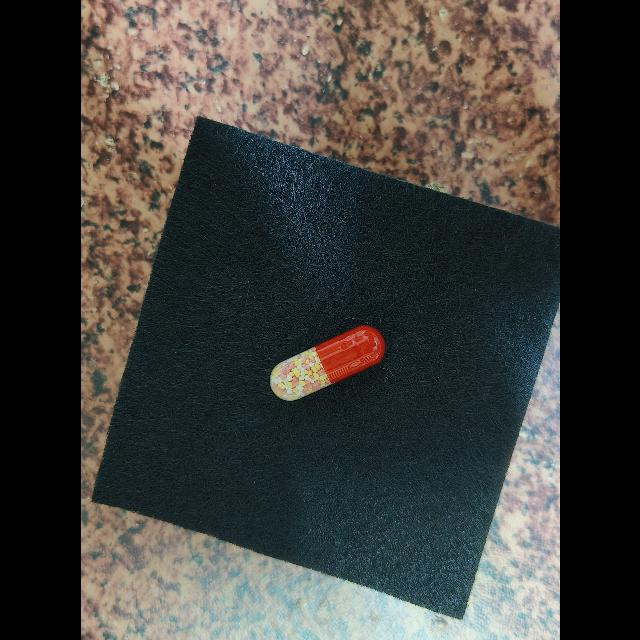Intact Capsule: (269, 325, 385, 401)
